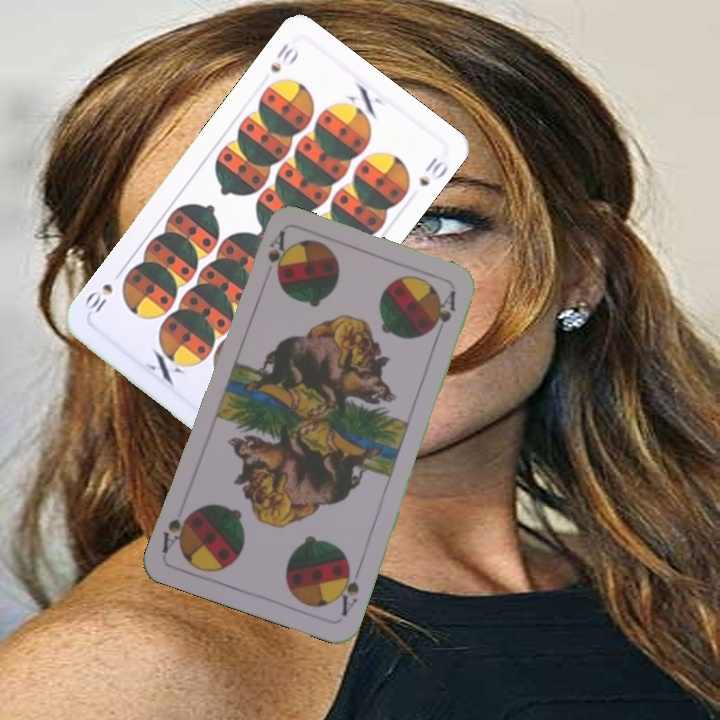S10: (266, 39, 296, 76)
SA: (332, 559, 364, 619), (263, 227, 287, 276)
